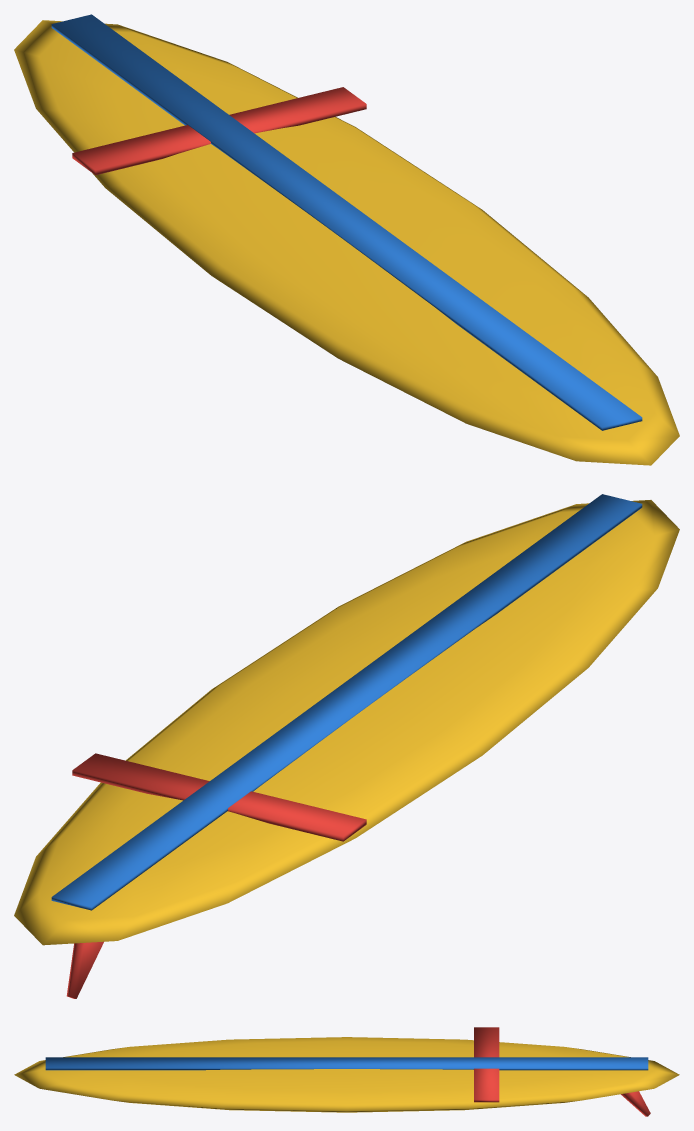
The model's file is Prop_Surfboard_B.fbx.
3 views of the same model, one above another, from view 1: azimuth 30°, elevation 25°; view 2: azimuth 150°, elevation 25°; view 3: azimuth 270°, elevation 25° (orthographic). The views are drawn at different scales.
Parts seen in each view (by area): view 1: Prop_Surfboard_B.001; view 2: Prop_Surfboard_B.001; view 3: Prop_Surfboard_B.001.
Boxes of the visible parts, box(x1,y1,x2,y2) form: Prop_Surfboard_B.001: box(14, 14, 679, 465); Prop_Surfboard_B.001: box(14, 494, 679, 998); Prop_Surfboard_B.001: box(14, 1027, 679, 1116).
Size of the model in its own units: 0.54 by 0.1878 by 2.1.
